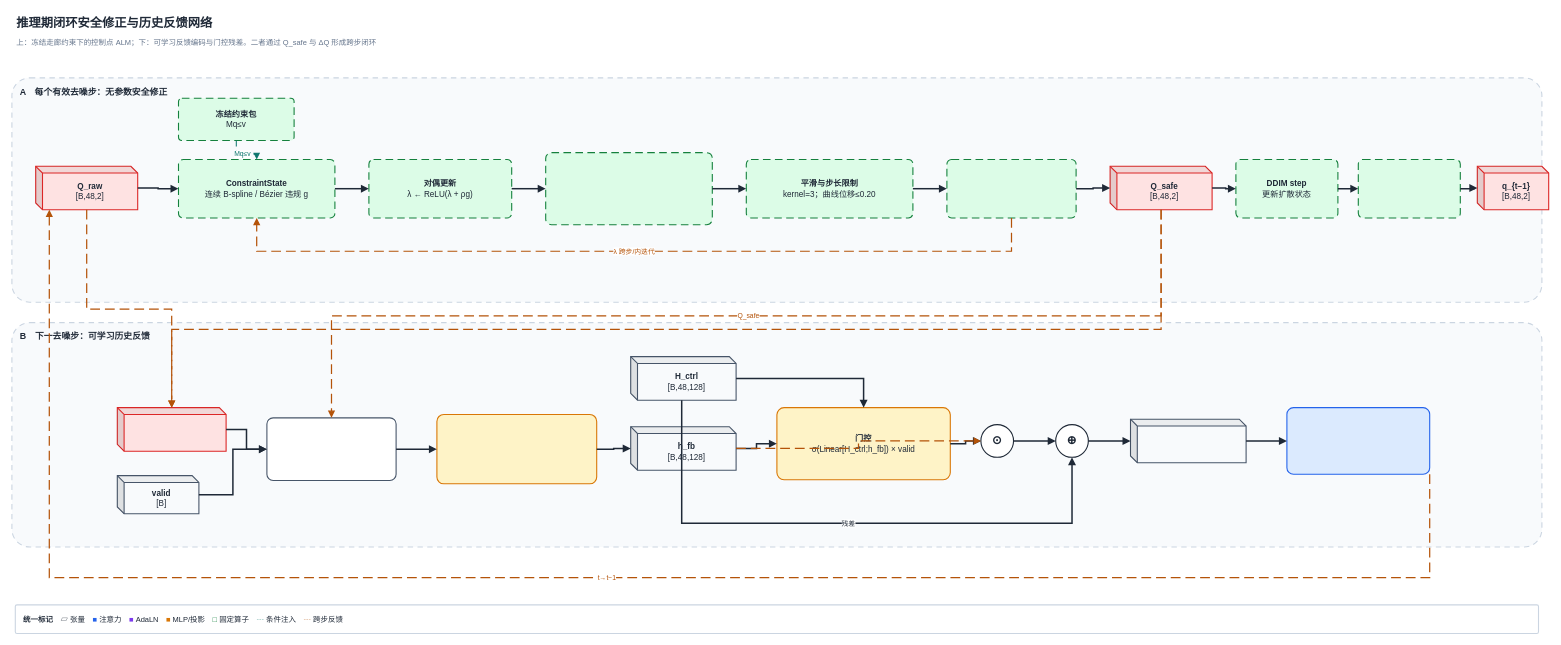
The diagram is 1561 pixels wide and 645 high, and some of its shapes have lost their labels. The shapes that lost their labels are listed below. From the top down, each one's centre as x and y in pixels, then its label:
the point at 629,188: 原变量近端步 解析梯度 + Cholesky 求解
the point at 1011,188: 内迭代 ×K K≤10，tol=10⁻³
the point at 1409,188: Endpoint clamp q₀=S，q₄₇=G
the point at 171,429: ΔQ Q_safe−Q_raw
the point at 331,449: Concat [Q_safe, ΔQ, valid] [B,48,5]
the point at 516,449: FeedbackEncoder 5→64→128（末层 zero-init）
the point at 1188,440: H̃_ctrl [B,48,128]
the point at 1358,441: 下一次网络前向 图 3-2 → 图 3-4
